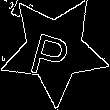P_N: (31, 20, 78, 79)
